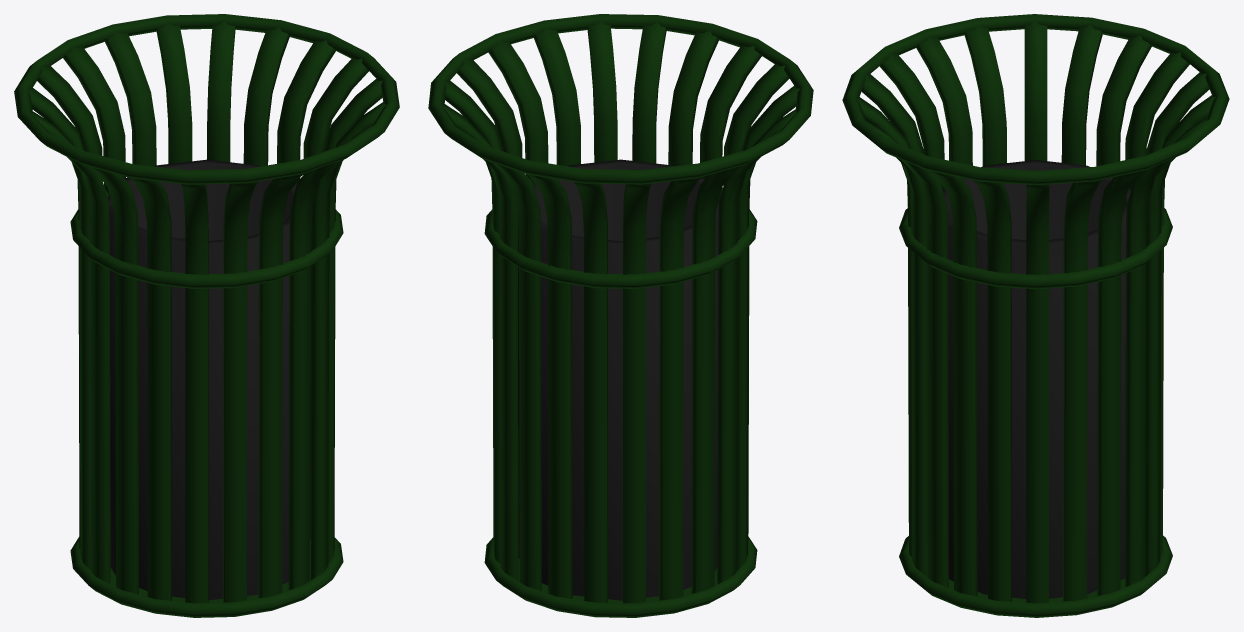
File: Prullebak.fbx
The picture shows the model from 3 angles, left to right: view 1: azimuth 30°, elevation 25°; view 2: azimuth 150°, elevation 25°; view 3: azimuth 270°, elevation 25°; orthographic projection.
Parts seen in each view (by area): view 1: CityBin; view 2: CityBin; view 3: CityBin.
Boxes of the visible parts, bbox=[...] form: CityBin: bbox=[14, 14, 399, 617]; CityBin: bbox=[428, 14, 813, 617]; CityBin: bbox=[842, 14, 1229, 617].
Size of the model in its own units: 100 by 134 by 100.
